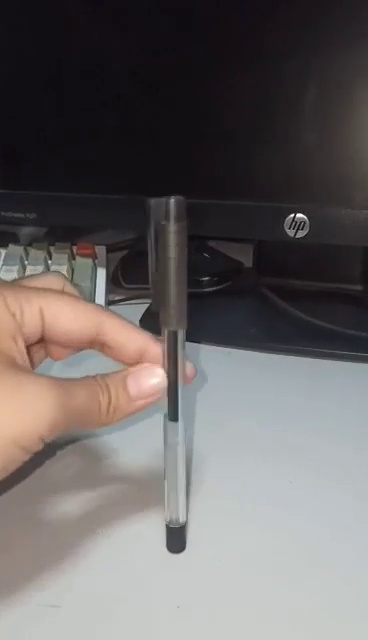ballpen: (147, 192, 194, 559)
hand: (1, 271, 168, 480)
